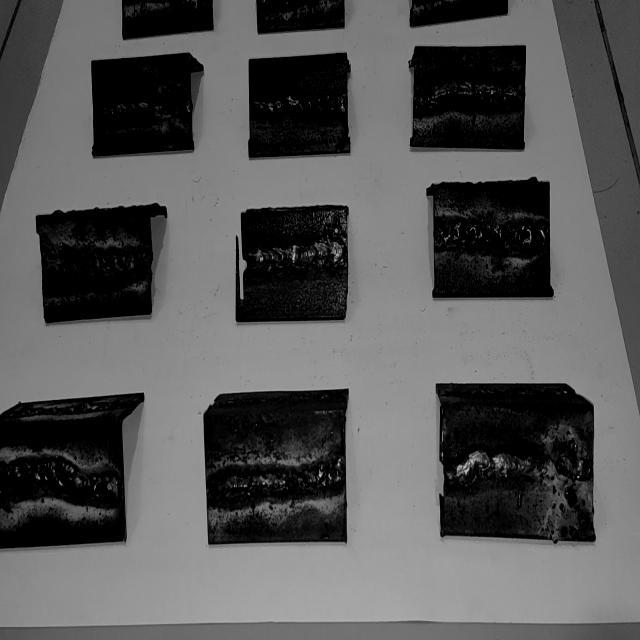Defect: (542, 429, 592, 526), (435, 223, 550, 248)
Welding Line: (0, 458, 121, 500), (212, 463, 342, 497), (447, 456, 544, 488), (419, 80, 522, 109), (65, 248, 150, 282), (249, 242, 344, 272), (95, 98, 190, 122), (252, 94, 346, 114)
Workpiece: (443, 402, 594, 540), (204, 414, 345, 544), (0, 418, 123, 542), (434, 188, 551, 294), (240, 212, 348, 317), (416, 46, 524, 150), (39, 217, 151, 316), (250, 58, 349, 155), (92, 58, 192, 151)
